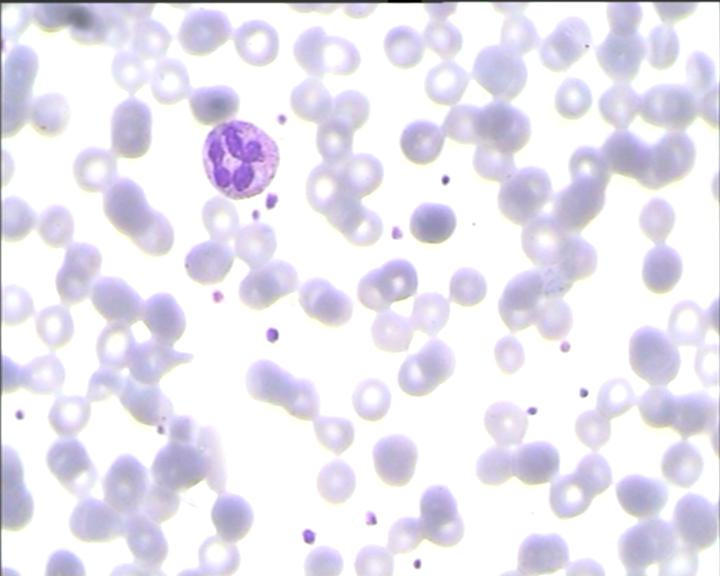neut: (194, 117, 286, 199)
